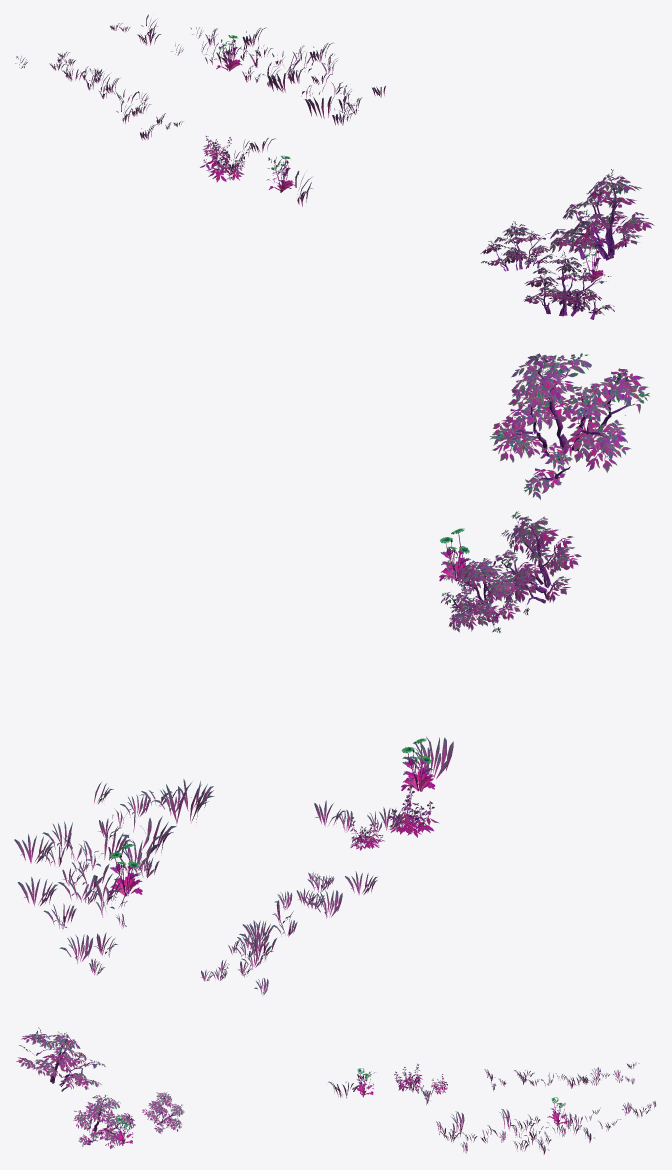
Rendered from boss3_zhibei_1.fbx.
3 views of the same model, one above another, from view 1: azimuth 30°, elevation 25°; view 2: azimuth 150°, elevation 25°; view 3: azimuth 270°, elevation 25° (orthographic). The views are drawn at different scales.
Visible parts, largest first — view 1: boss3_zhibei_1; view 2: boss3_zhibei_1; view 3: boss3_zhibei_1.
Part boxes in pixels (<box>): boss3_zhibei_1: <box>15,14,654,319</box>; boss3_zhibei_1: <box>14,353,649,995</box>; boss3_zhibei_1: <box>16,1027,655,1154</box>.
Bounding box in the file's own units: 1328 × 827 × 4081.
